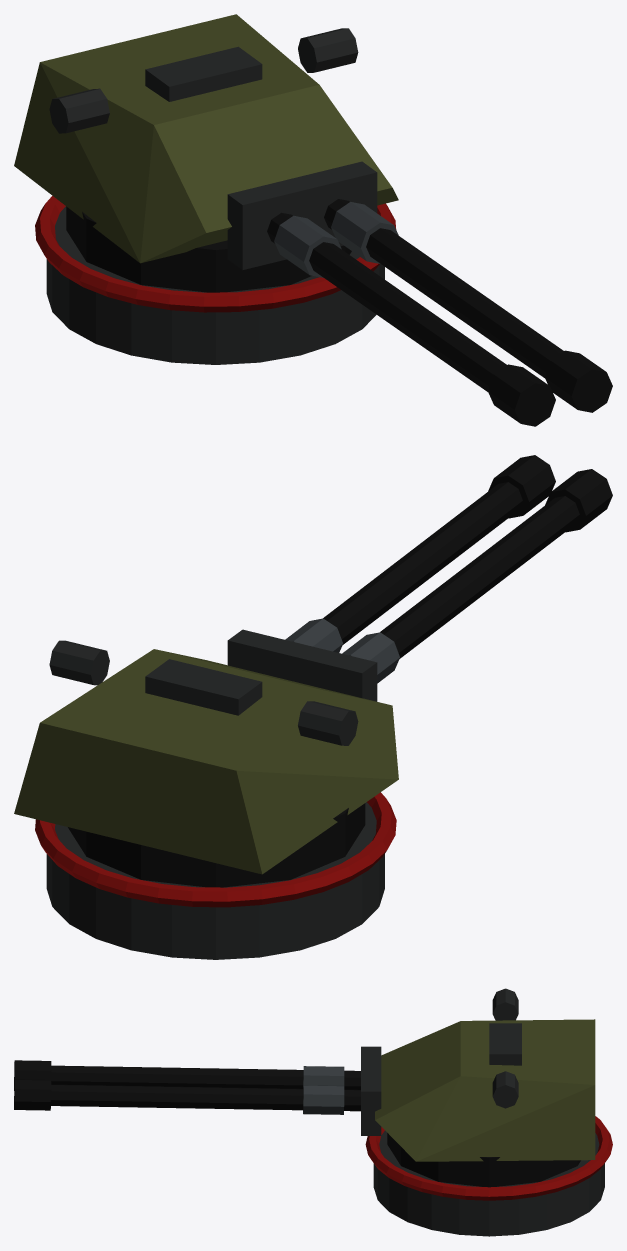
The model's file is turret.obj.
3 views of the same model, one above another, from view 1: azimuth 30°, elevation 25°; view 2: azimuth 150°, elevation 25°; view 3: azimuth 270°, elevation 25° (orthographic). The views are drawn at different scales.
Parts seen in each view (by area): view 1: turret; view 2: turret; view 3: turret.
Boxes of the visible parts, bbox=[...] form: turret: bbox=[14, 14, 612, 426]; turret: bbox=[14, 455, 612, 959]; turret: bbox=[14, 988, 612, 1236].
Size of the model in its own units: 16.52 by 11.13 by 40.
Materials: 1 (1 with a texture image).
